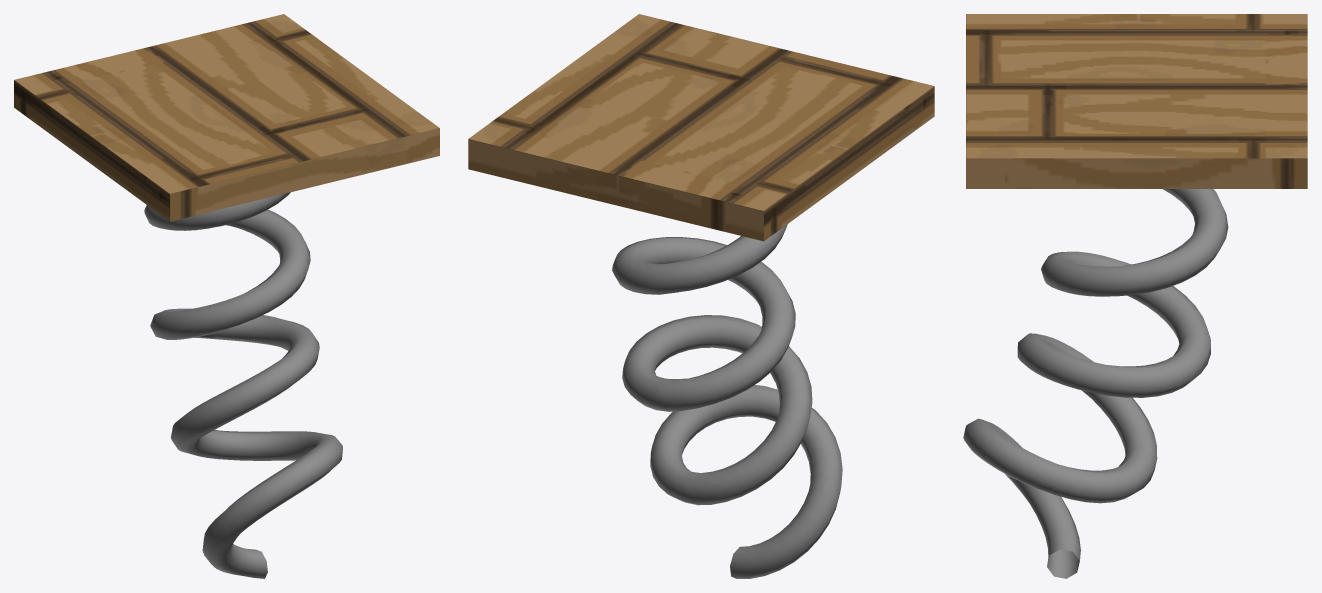
Rendered from jump.fbx.
3 views of the same model, side by side, from view 1: azimuth 30°, elevation 25°; view 2: azimuth 150°, elevation 25°; view 3: azimuth 270°, elevation 25° (orthographic). The views are drawn at different scales.
Parts seen in each view (by area): view 1: jump; view 2: jump; view 3: jump.
Boxes of the visible parts, x1,y1,x2,y2 form: jump: [14, 14, 439, 578]; jump: [468, 14, 934, 578]; jump: [963, 14, 1307, 578].
Bounding box in the file's own units: 100 × 159 × 101.
